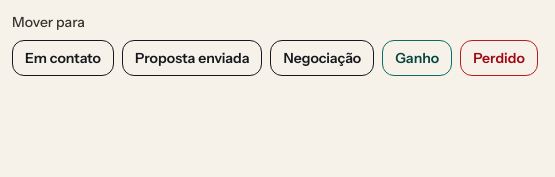
StageActions › se outra pessoa mexeu primeiro (409), mostra a mensagem, oferece recarregar e NÃO atualiza a lista
Click the button with aria-label "Mover para Ganho". click: (417,58)
box: [382,40,452,76]
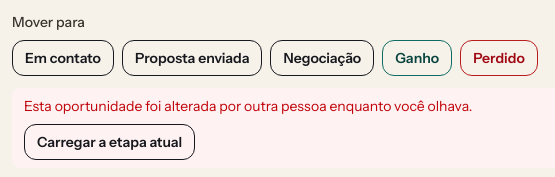
Now the text "alterada por outra pessoa" is shown, box [24,97,472,115]
Now the button "Carregar a etapa atual" is shown, box [24,124,195,160]
